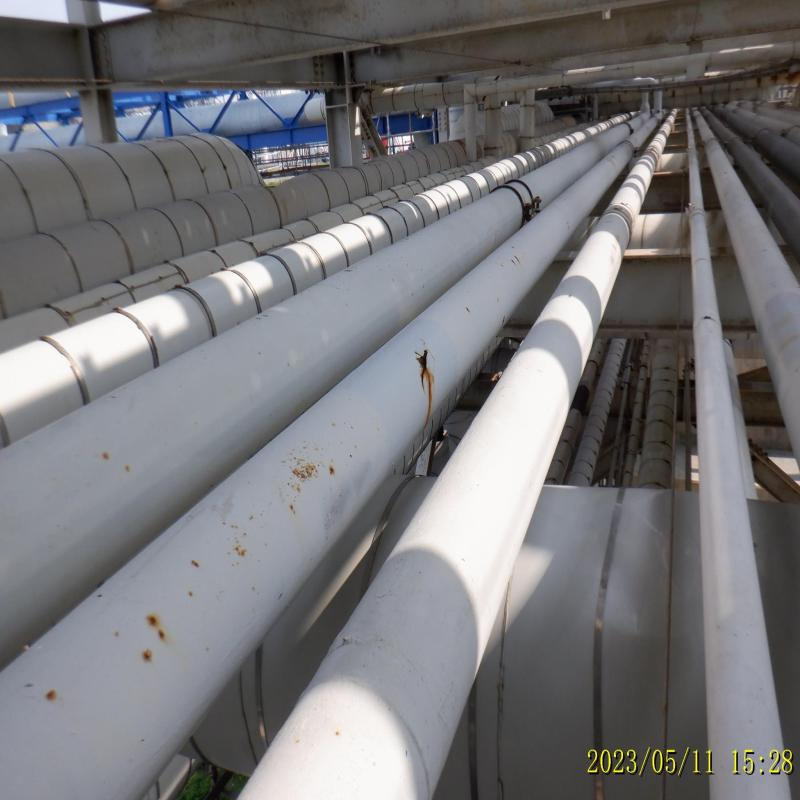corrosion: (47, 281, 363, 421)
